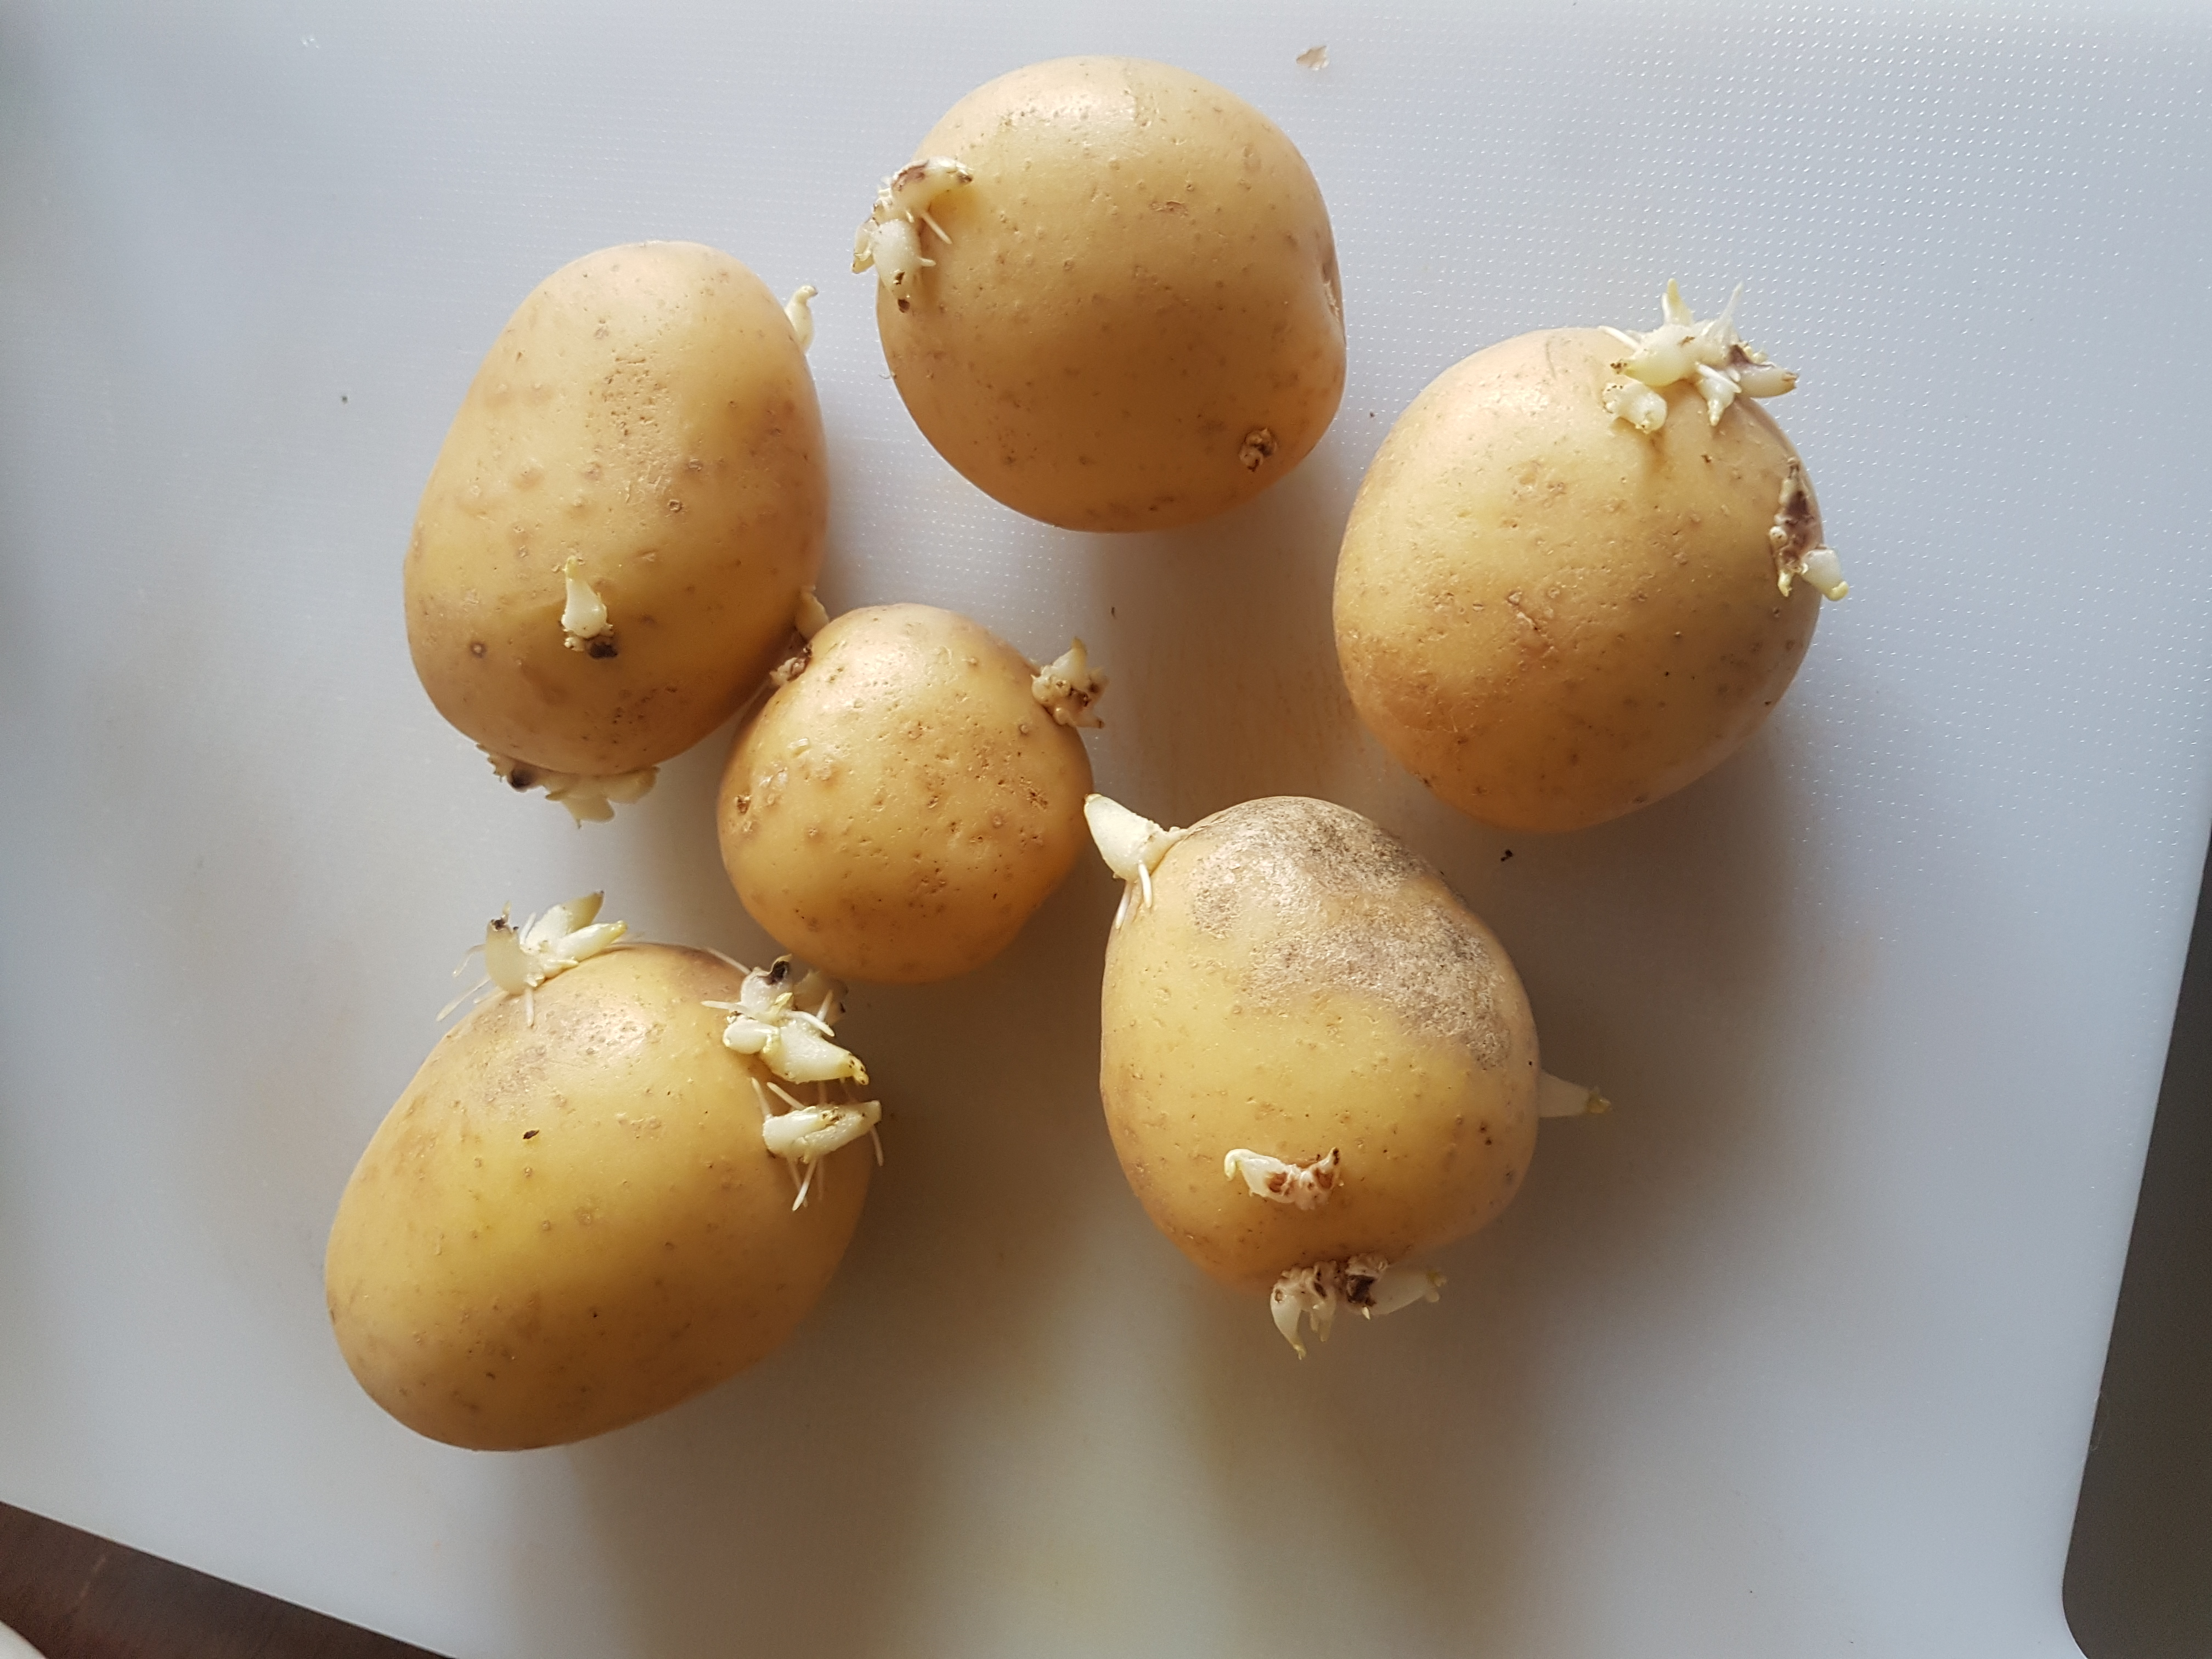Russet potato: (284, 920, 927, 1427), (376, 228, 805, 819), (1090, 845, 1625, 1307), (1409, 356, 1933, 821), (874, 51, 1379, 523), (794, 617, 1113, 971)
